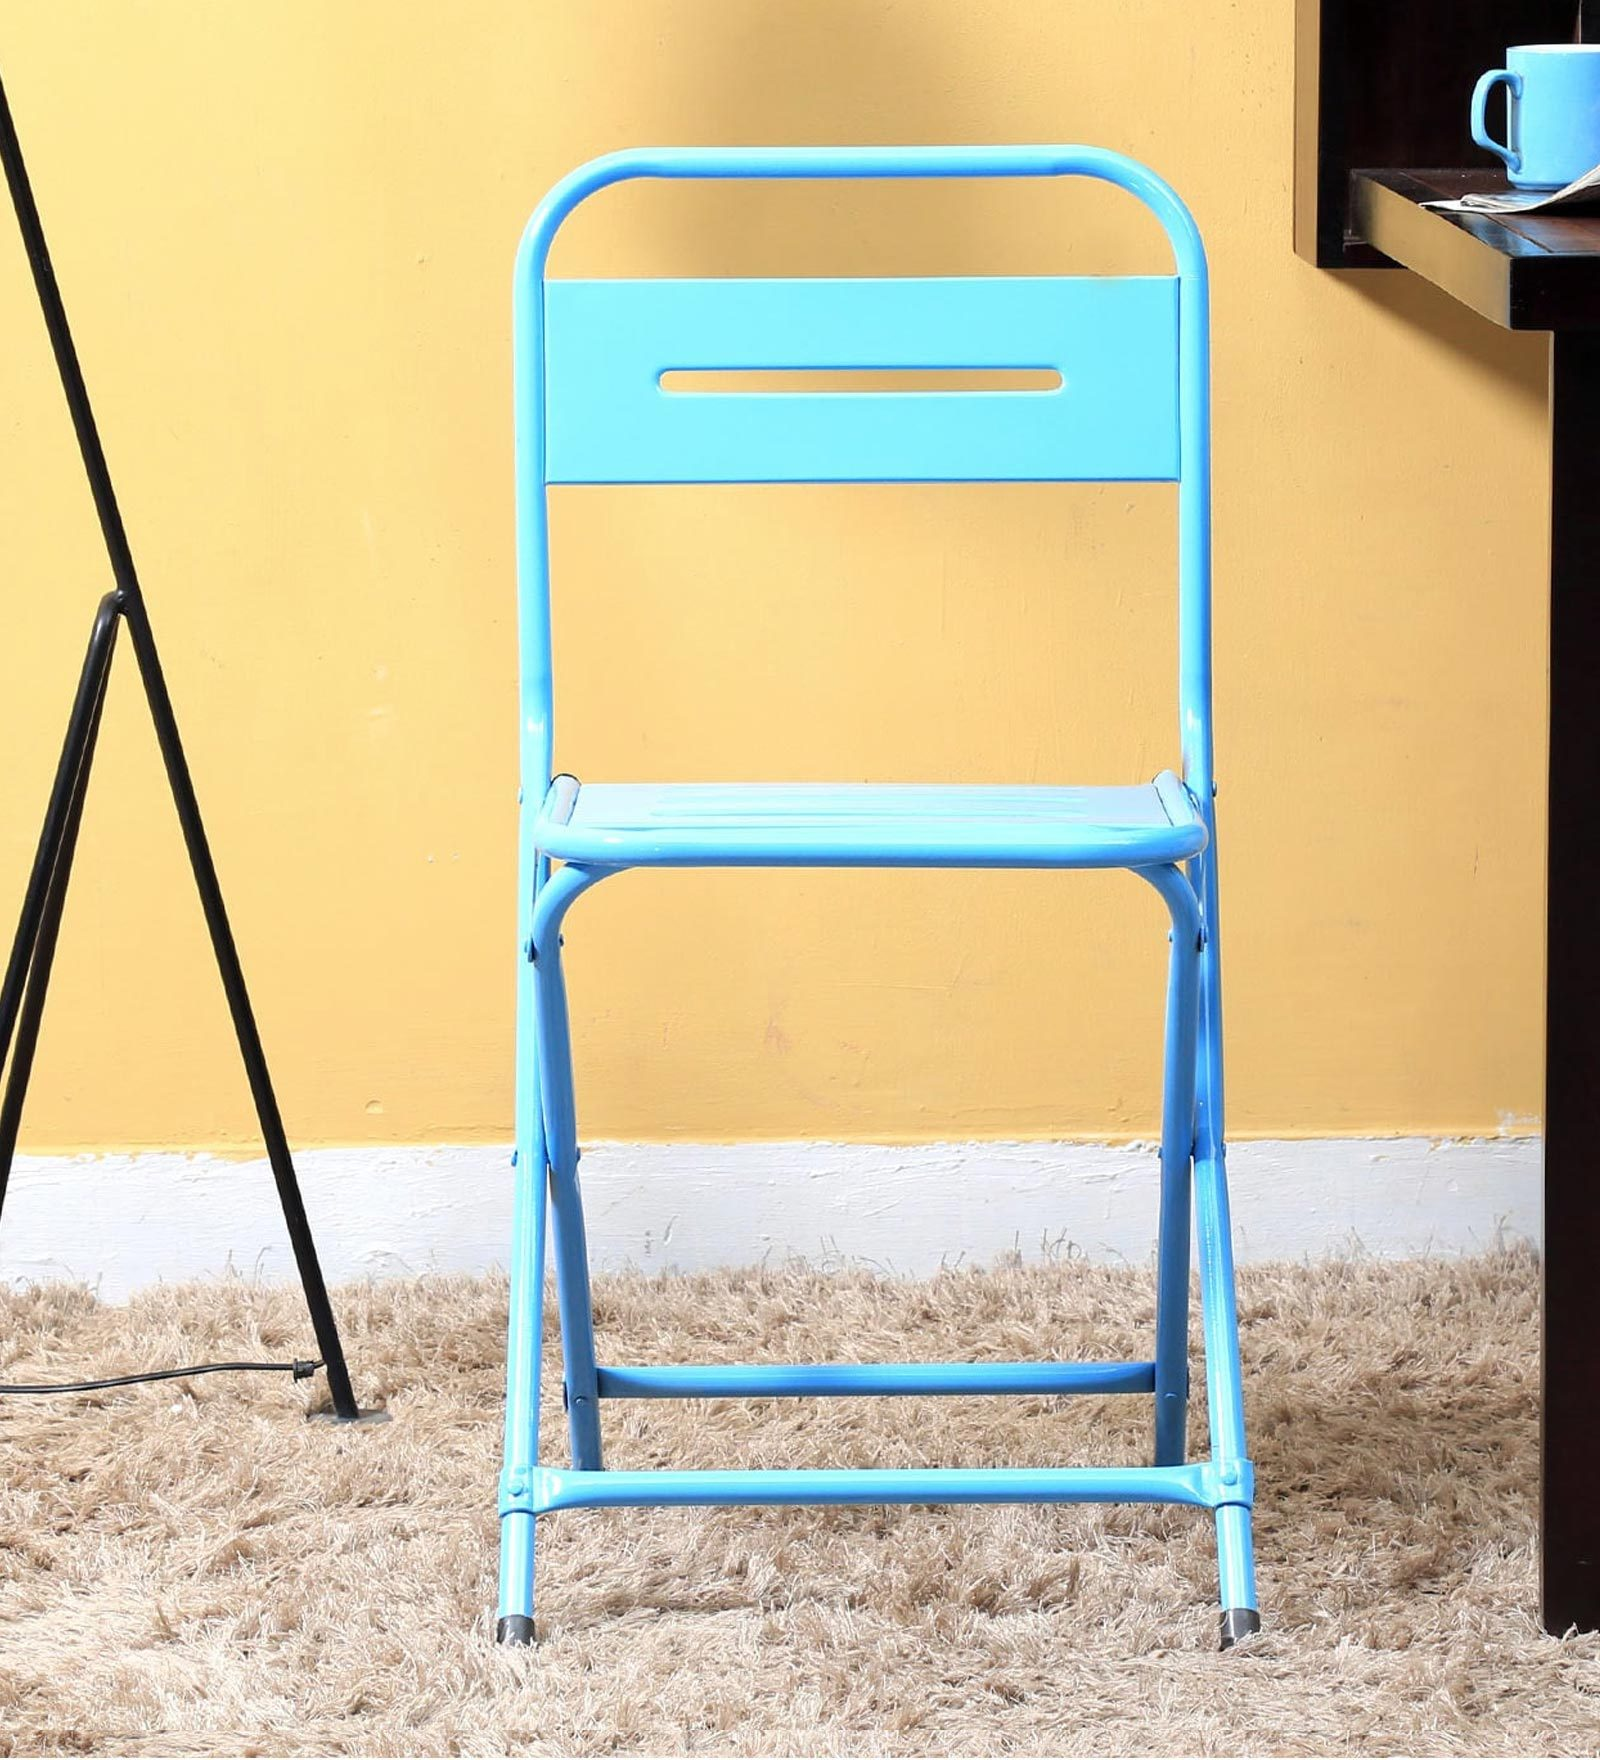Marandoo Grunge Blue Outdoor Folding Chair by Bohemiana: (495, 136, 1275, 1657)
